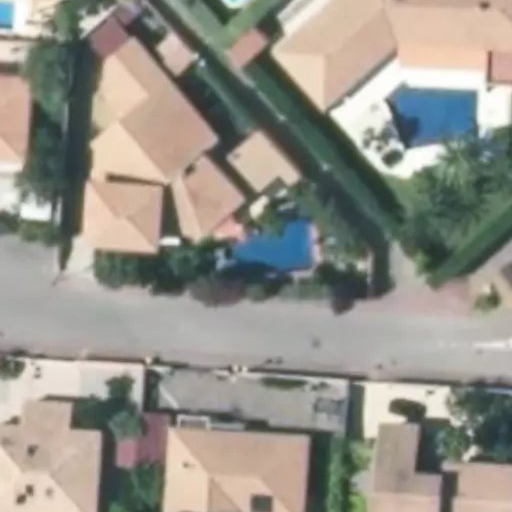pool: (205, 224, 302, 259)
